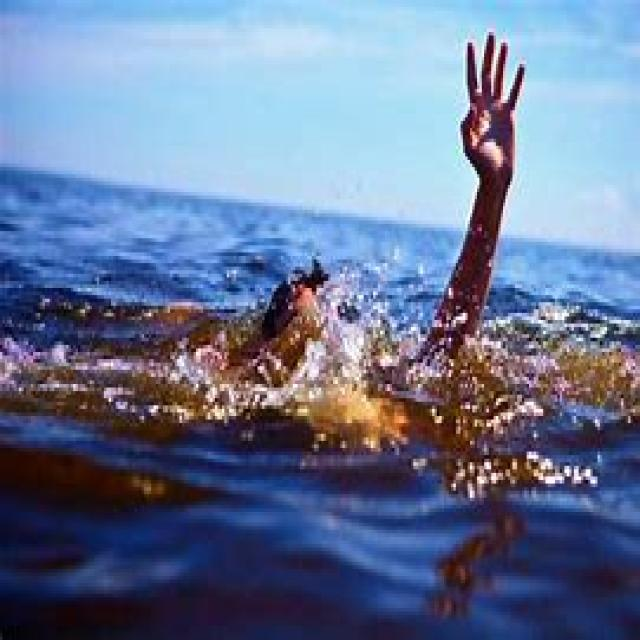drowning: (163, 36, 571, 512)
